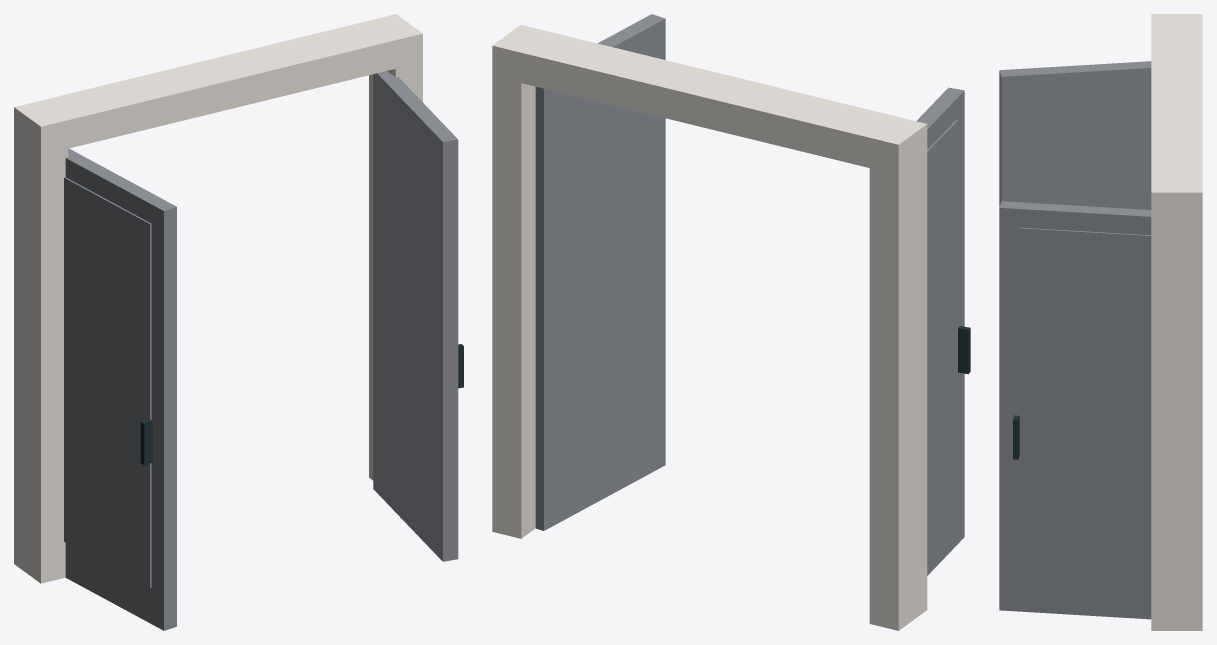
File: double_doors_open.glb
The picture shows the model from 3 angles, left to right: view 1: azimuth 30°, elevation 25°; view 2: azimuth 150°, elevation 25°; view 3: azimuth 270°, elevation 25°; orthographic projection. The views are drawn at different scales.
Visible parts, largest first — view 1: frutiger_aero_double_doors_open; view 2: frutiger_aero_double_doors_open; view 3: frutiger_aero_double_doors_open.
Boxes of the visible parts, x1,y1,x2,y2 form: frutiger_aero_double_doors_open: (14,14,463,630); frutiger_aero_double_doors_open: (492,14,970,630); frutiger_aero_double_doors_open: (999,14,1202,630).
Bounding box in the file's own units: 2.8 × 3.2 × 1.35.
Materials: 3 (3 with a texture image).
